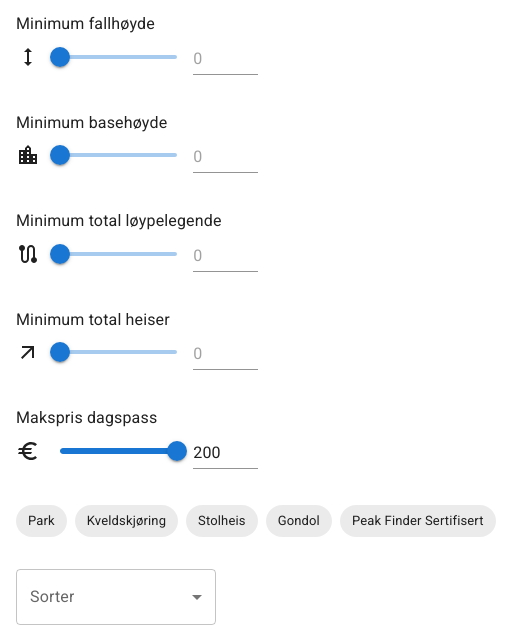
Filter › Values in input fields should update when sliders are used
Note: Change the value on all sliders
Set the 1st slider labelled "Minimum fallhøyde" to "1500" at (60, 57), box [50,47,70,67]
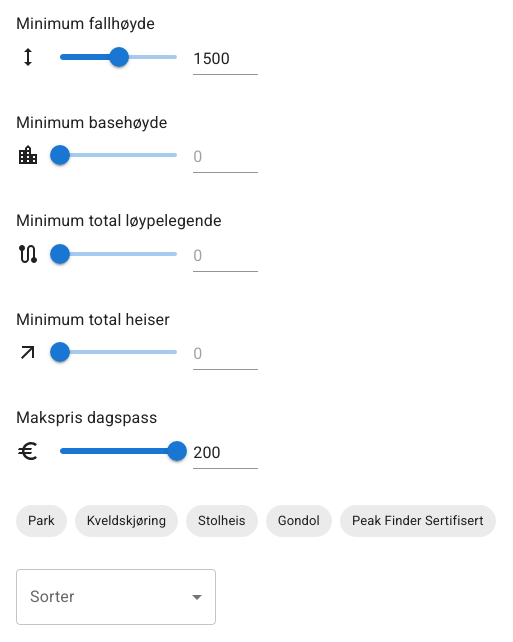
Set the slider labelled "Minimum fallhøyde" below "Minimum basehøyde" to "1500" at (60, 155), box [50,145,70,165]
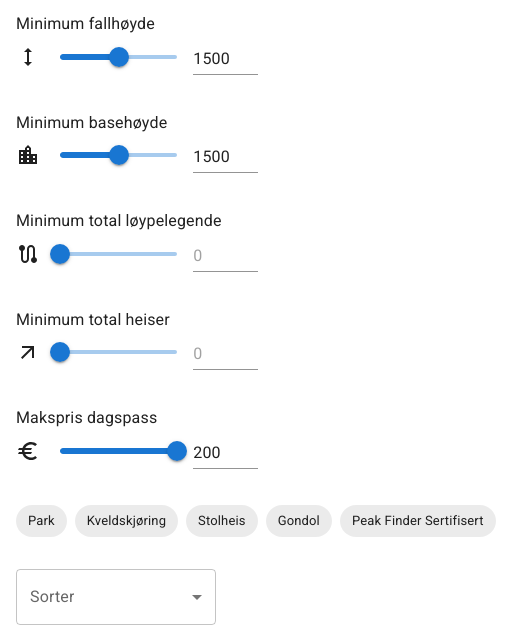
Set the slider labelled "Minimum fallhøyde" below "Minimum total løypelegende" to "300" at (60, 254), box [50,244,70,264]
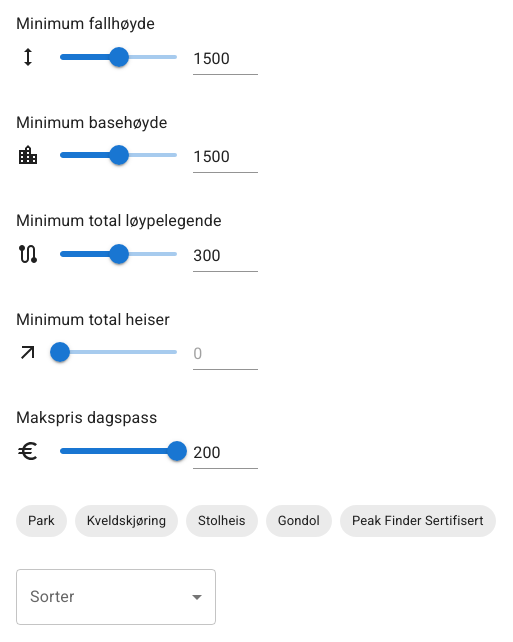
Set the slider labelled "Minimum fallhøyde" below "Minimum total heiser" to "100" at (60, 352), box [50,342,70,362]
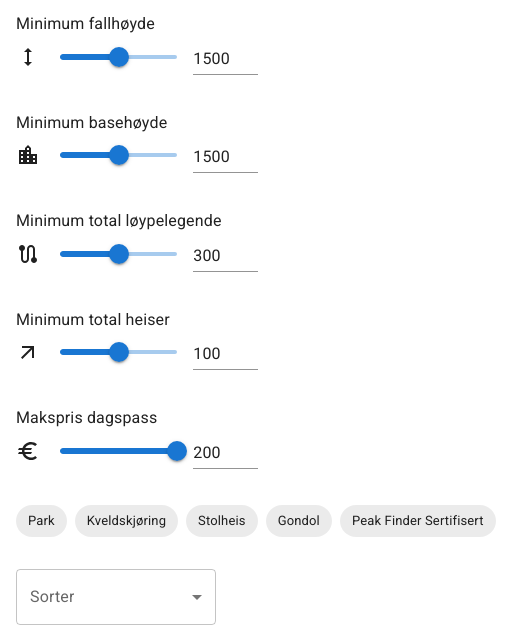
Set the slider labelled "Minimum fallhøyde" below "Makspris dagspass" to "100" at (177, 451), box [167,441,187,461]
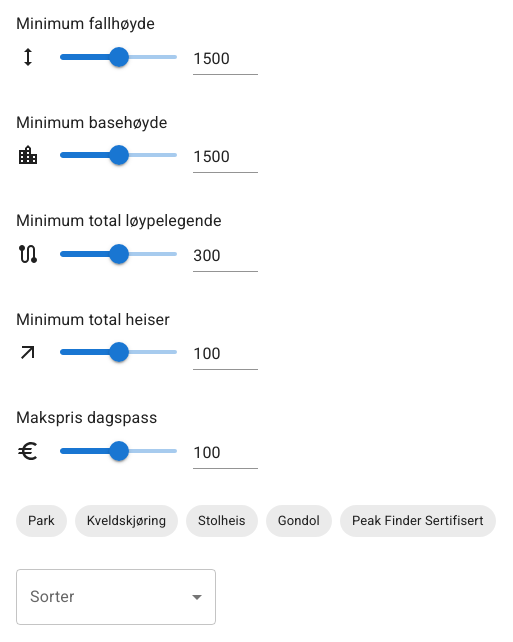
Expected: the 1st number field labelled "Minimum fallhøyde" holds "1500"
Expected: the number field labelled "Minimum fallhøyde" below "Minimum basehøyde" holds "1500", [193,144,258,173]
Expected: the number field labelled "Minimum fallhøyde" below "Minimum total løypelegende" holds "300", [193,243,258,272]
Note: Check that manual input also works as expected
Type "1000" into the 1st number field labelled "Minimum fallhøyde" at (226, 60), box [193,46,258,75]
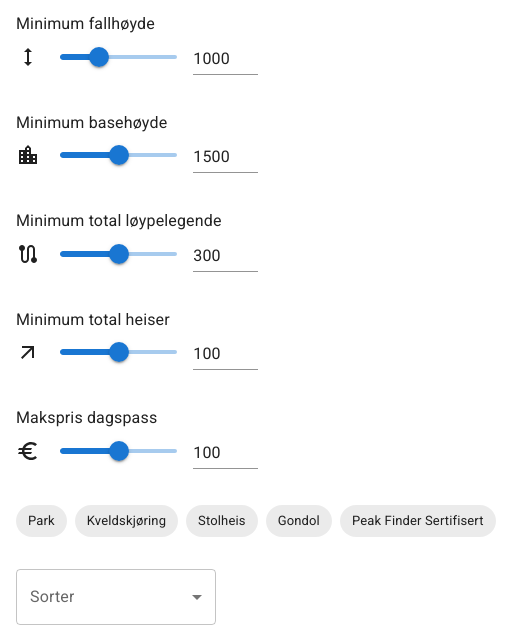
Expected: the 1st slider labelled "Minimum fallhøyde" holds "1000", [89,47,109,67]
